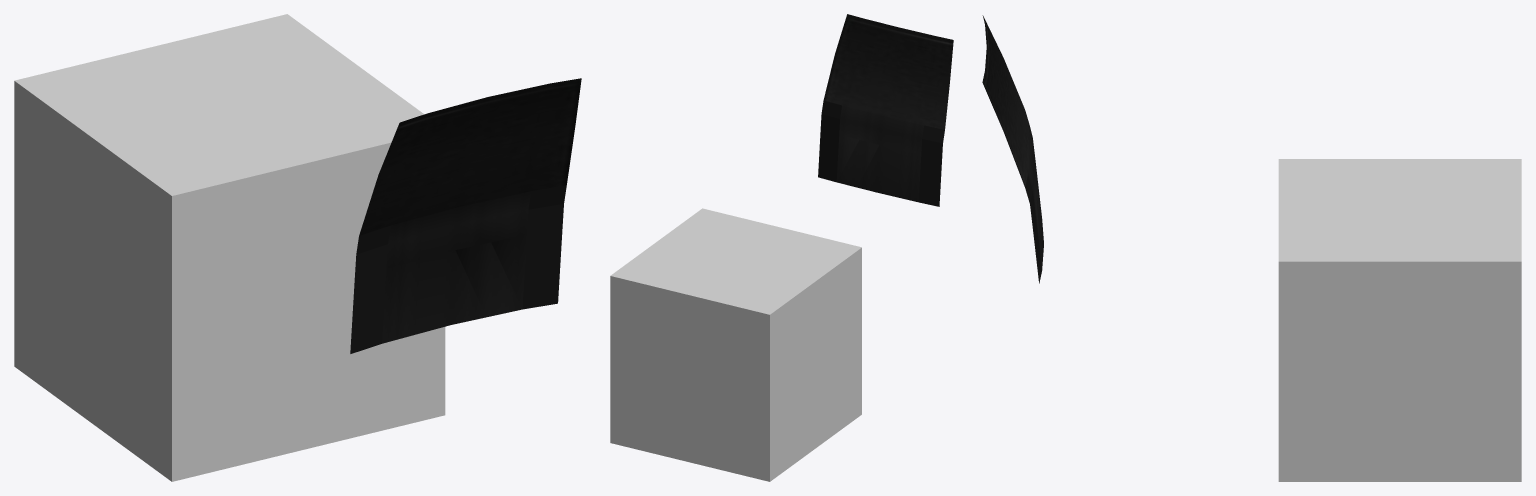
The model's file is Door.fbx.
3 renders of one model, left to right at view 1: azimuth 30°, elevation 25°; view 2: azimuth 150°, elevation 25°; view 3: azimuth 270°, elevation 25°, orthographic. The views are drawn at different scales.
Parts seen in each view (by area): view 1: Cube, Sphere.003; view 2: Cube, Sphere.003; view 3: Cube, Sphere.003.
Part boxes in pixels (x1,y1,x2,y2): Cube: [14, 14, 445, 481]; Sphere.003: [350, 78, 581, 353]; Cube: [610, 208, 861, 481]; Sphere.003: [818, 14, 953, 206]; Cube: [1278, 159, 1521, 481]; Sphere.003: [982, 15, 1043, 283].
Bounding box in the file's own units: 200 × 345 × 444.
